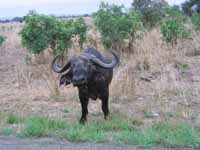buffalo: (52, 47, 119, 126)
